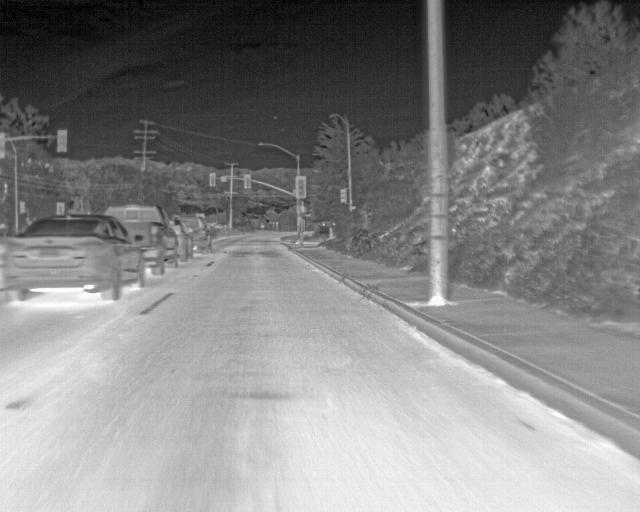car: (2, 214, 145, 303), (102, 202, 179, 276), (170, 219, 192, 263), (190, 214, 211, 256)
